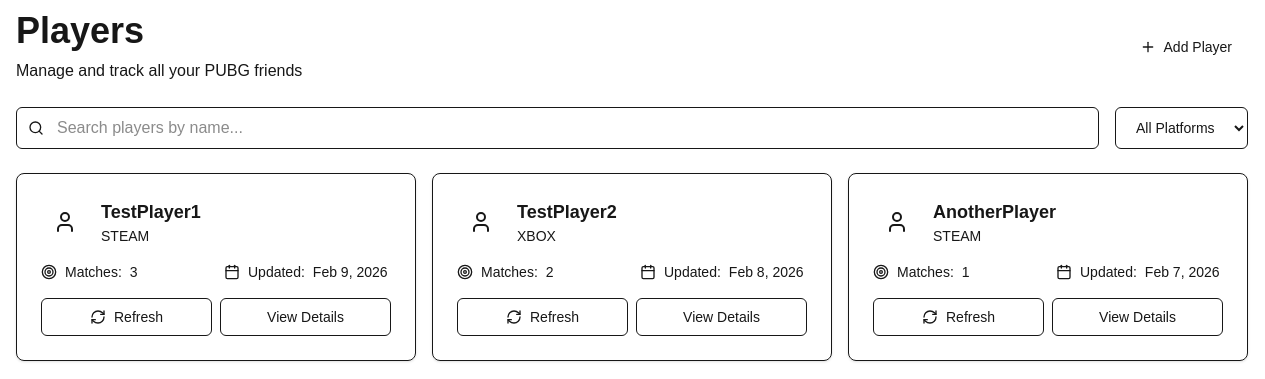
Test case: Players Page Integration Tests › combines search and shard filters
Expected: the heading "TestPlayer1" is shown, [101,198,201,226]
In the field with placeholder "Search players by name...": (558, 128) [16,107,1099,149], type "Test"
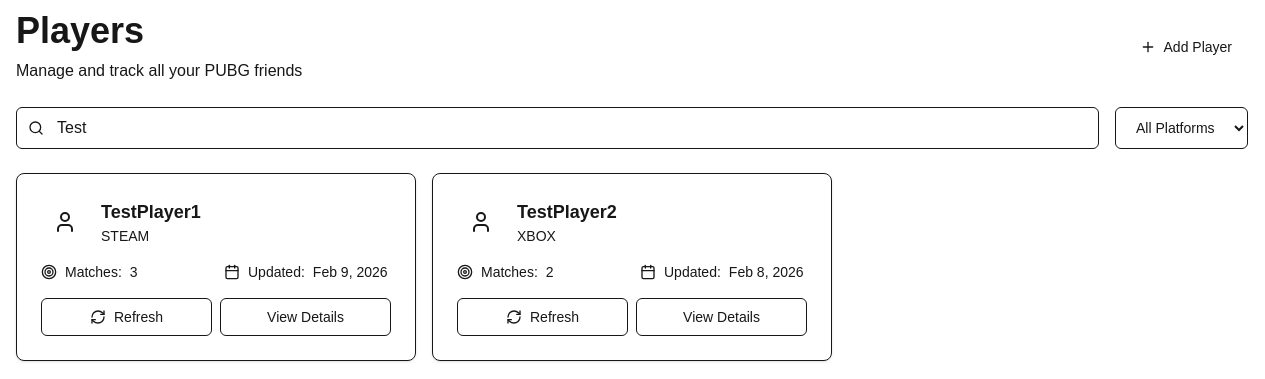
Select "Steam" in the dropdown: (1182, 128) [1115,107,1248,149]
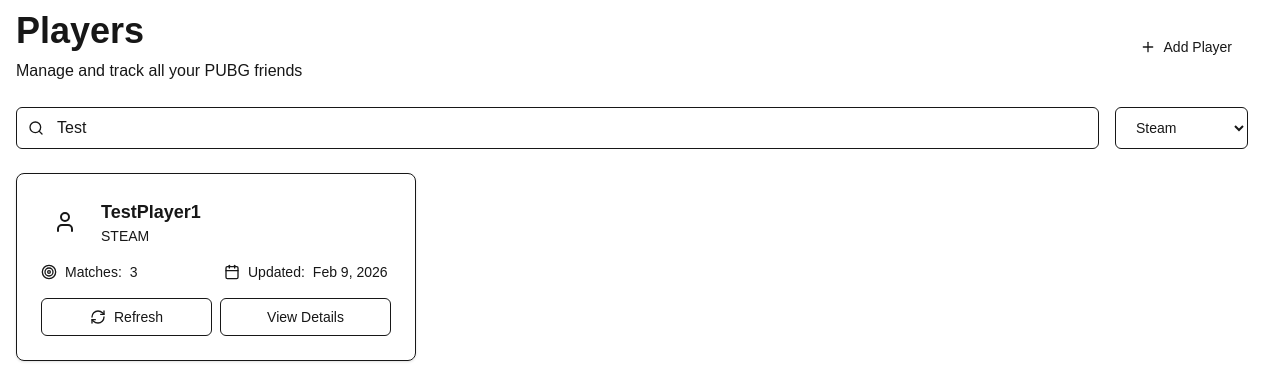
Expected: the heading "TestPlayer1" is shown, [101,198,201,226]
Result: the heading "TestPlayer2" is gone
